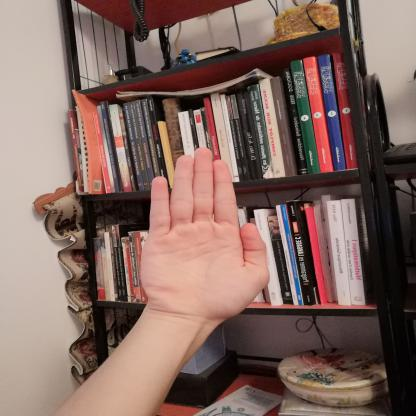SEEN: (127, 139, 283, 333)
